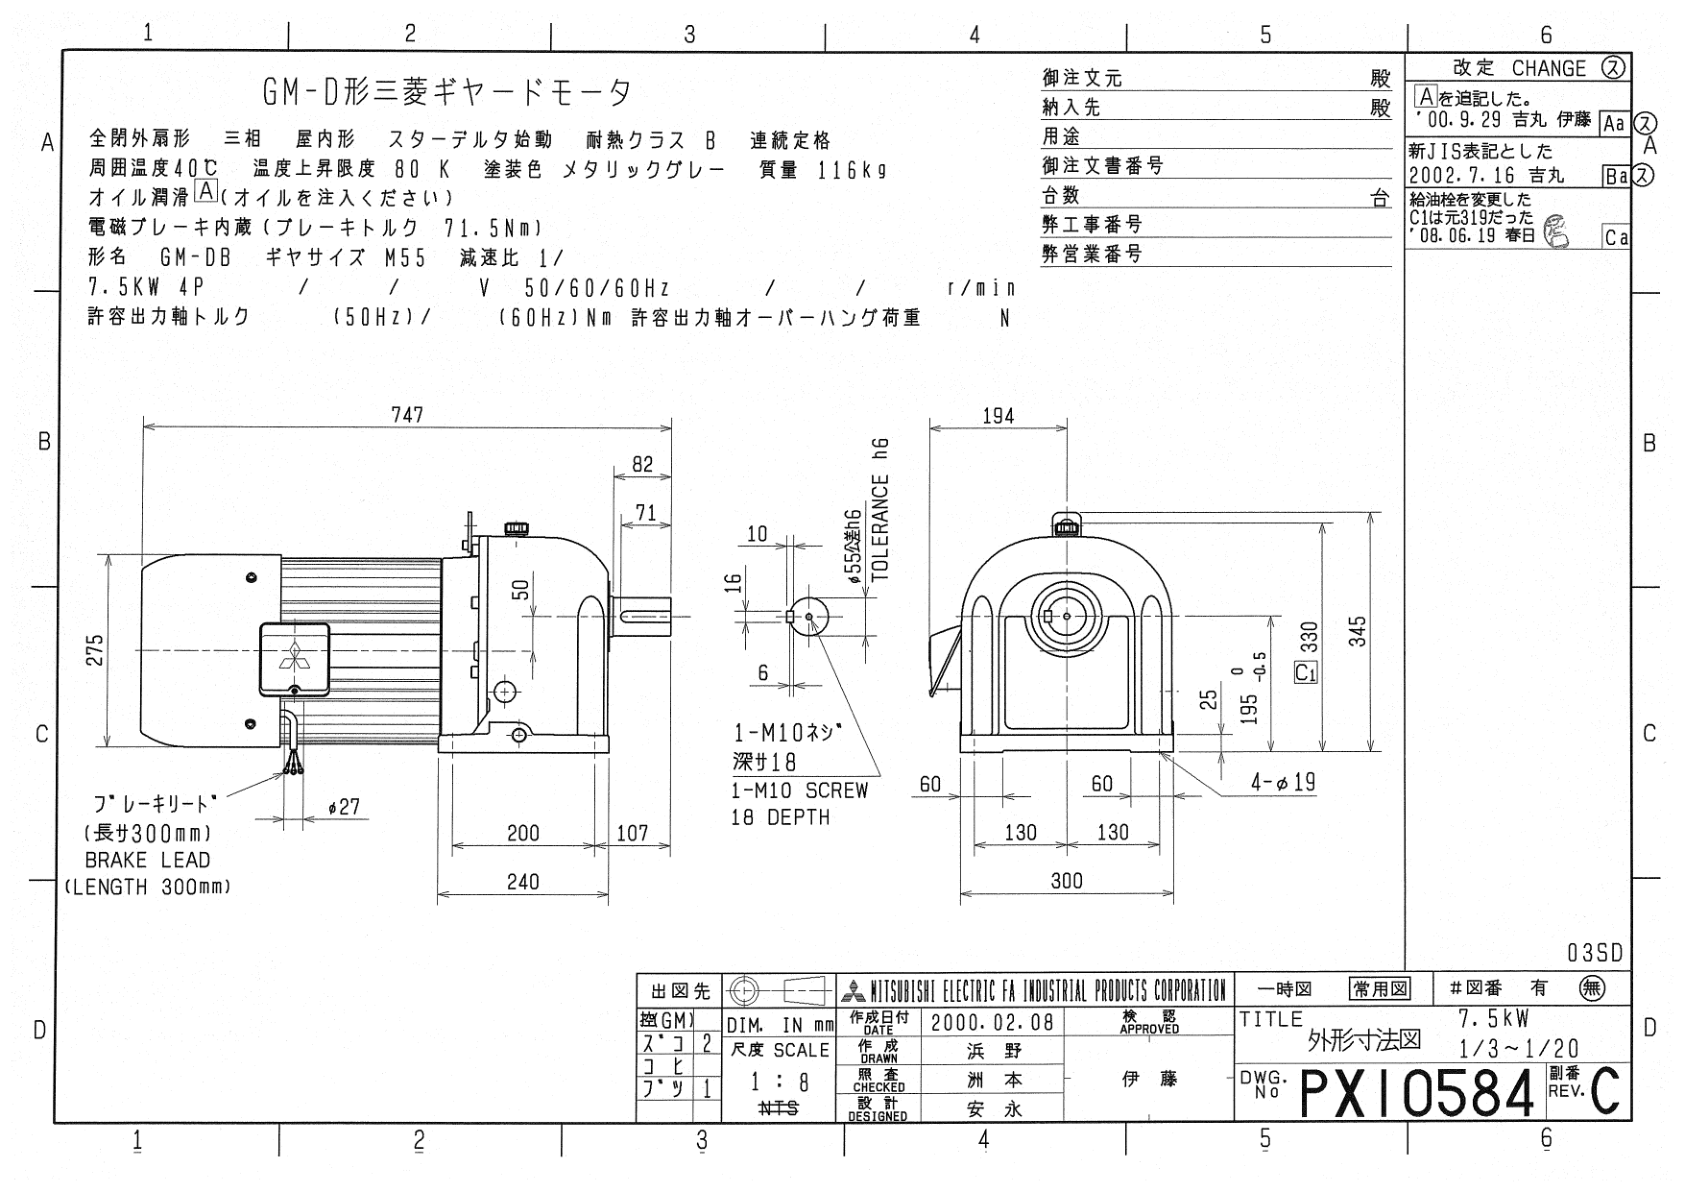GM_D_屋内＿三相_脚: (1, 10, 1673, 1182)
